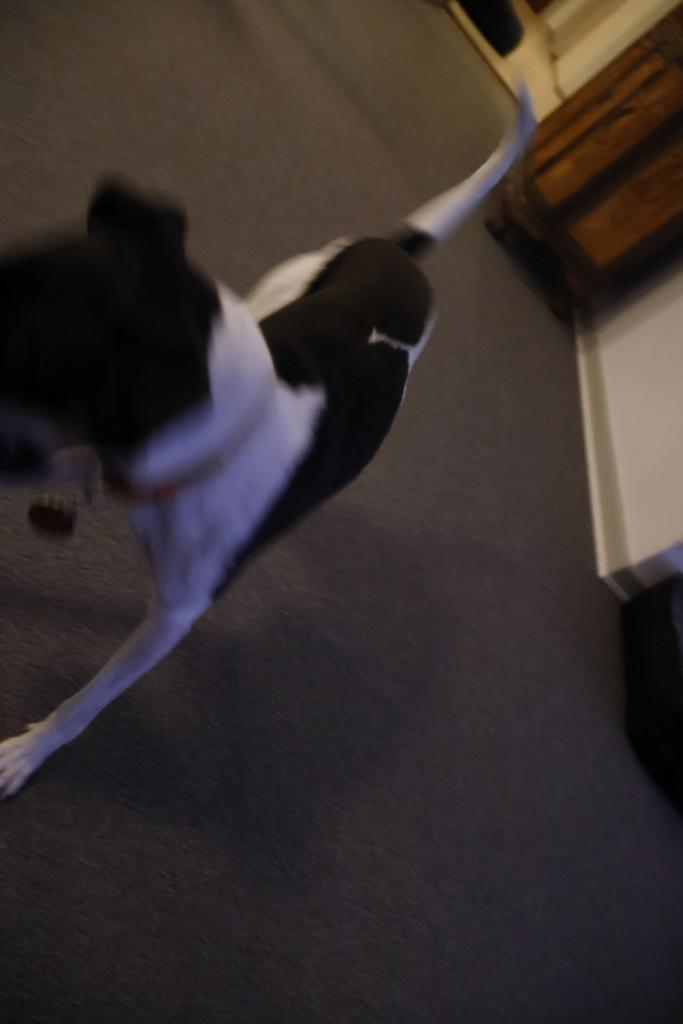Dog: (0, 60, 544, 814)
